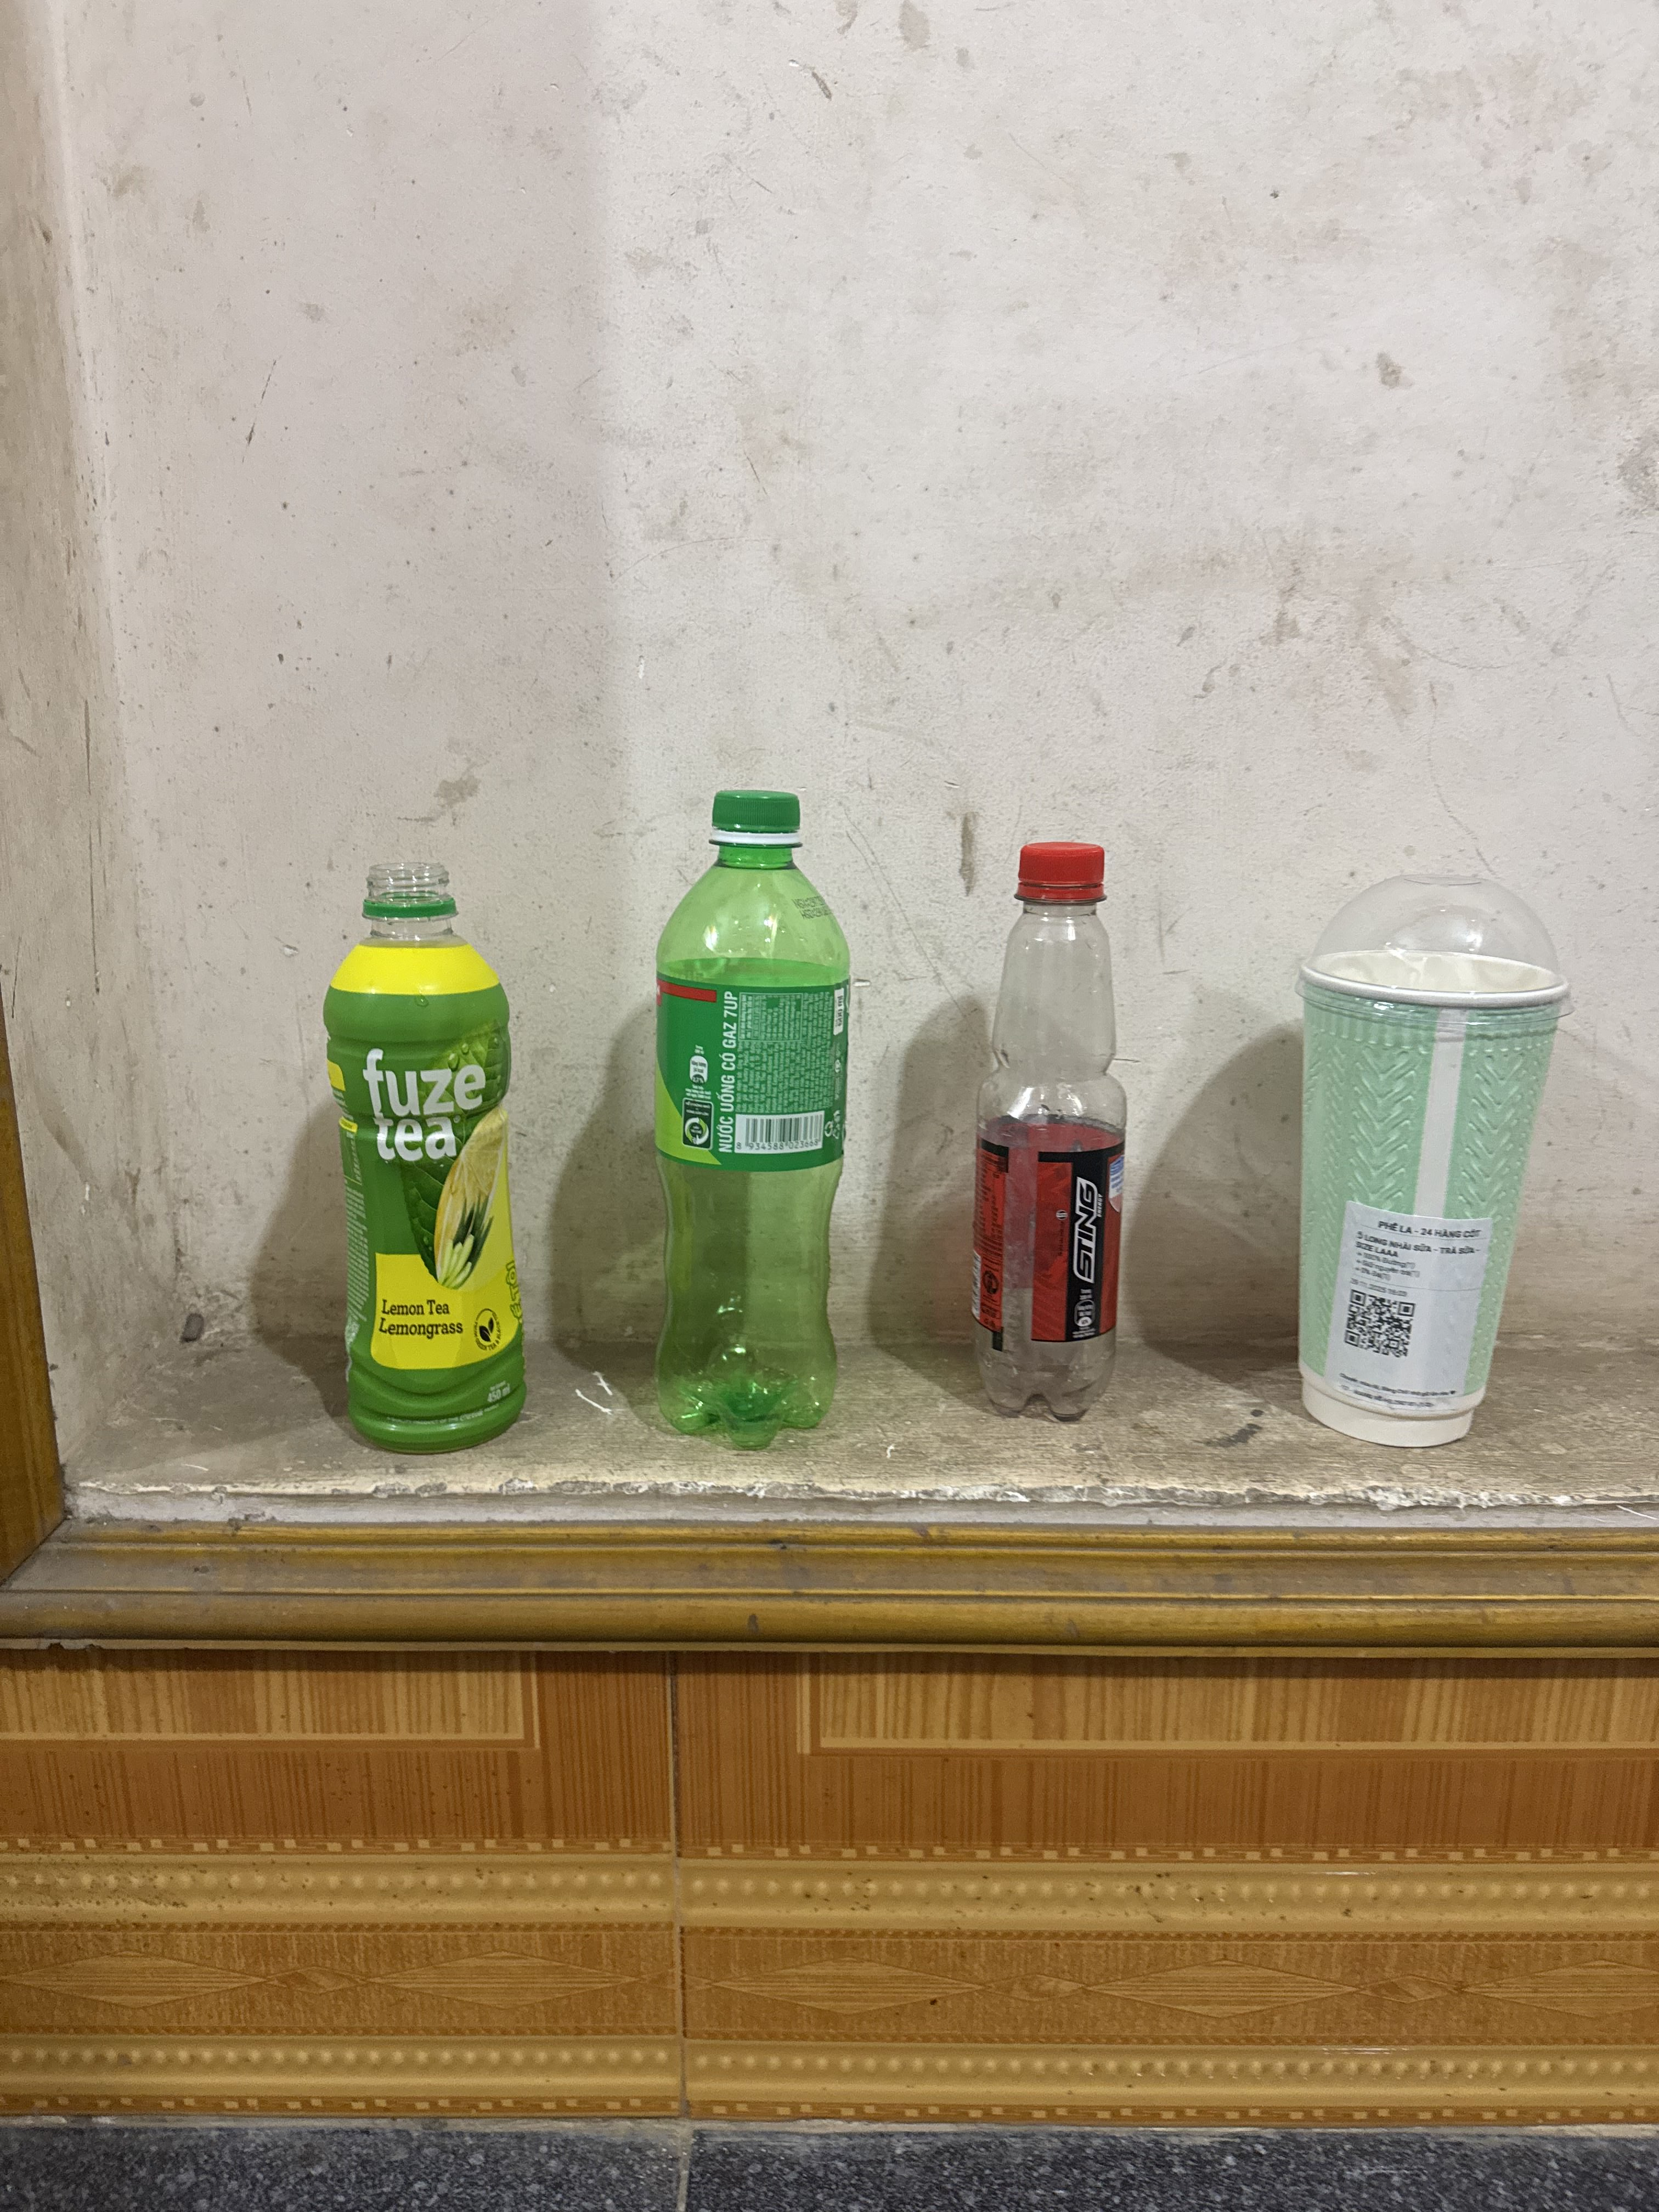2: (1258, 845, 1575, 1512)
bottle: (279, 824, 582, 1493), (615, 759, 884, 1470), (913, 822, 1190, 1454)
